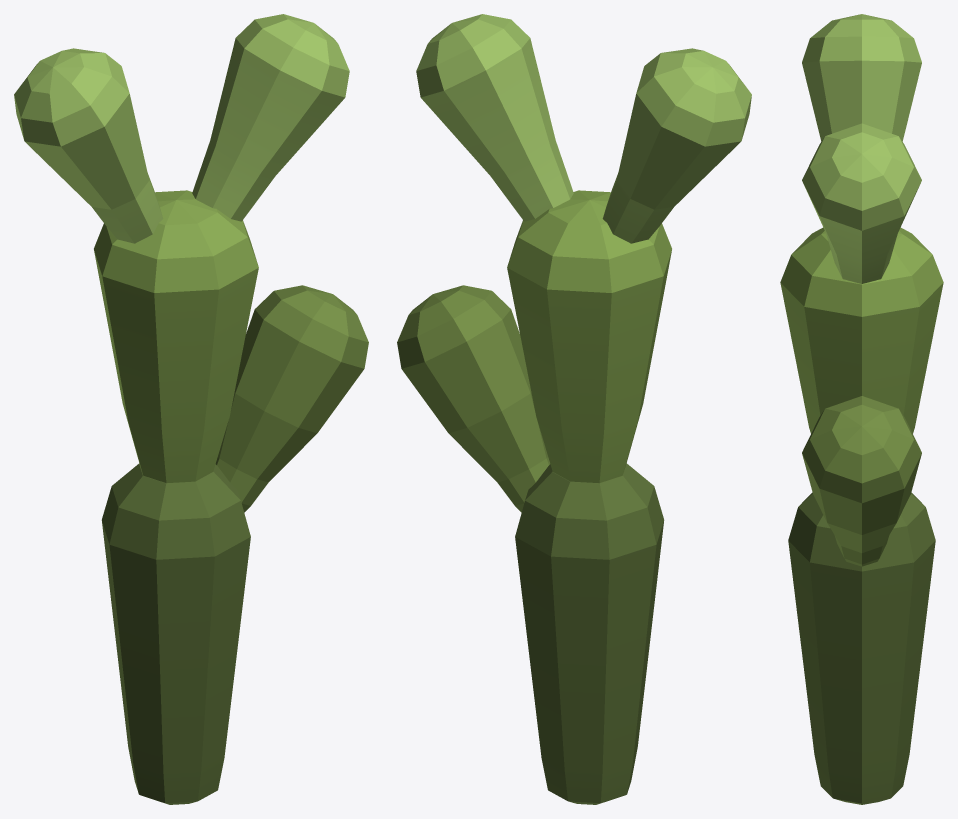
File: cactus_3.fbx
The picture shows the model from 3 angles, left to right: view 1: azimuth 30°, elevation 25°; view 2: azimuth 150°, elevation 25°; view 3: azimuth 270°, elevation 25°; orthographic projection. The views are drawn at different scales.
Visible parts, largest first — view 1: cactus_3; view 2: cactus_3; view 3: cactus_3.
Boxes of the visible parts, x1=… form: cactus_3: x1=14, y1=14, x2=368, y2=804; cactus_3: x1=397, y1=14, x2=751, y2=804; cactus_3: x1=780, y1=14, x2=943, y2=804.
Size of the model in its own units: 74.13 by 160 by 32.25.
